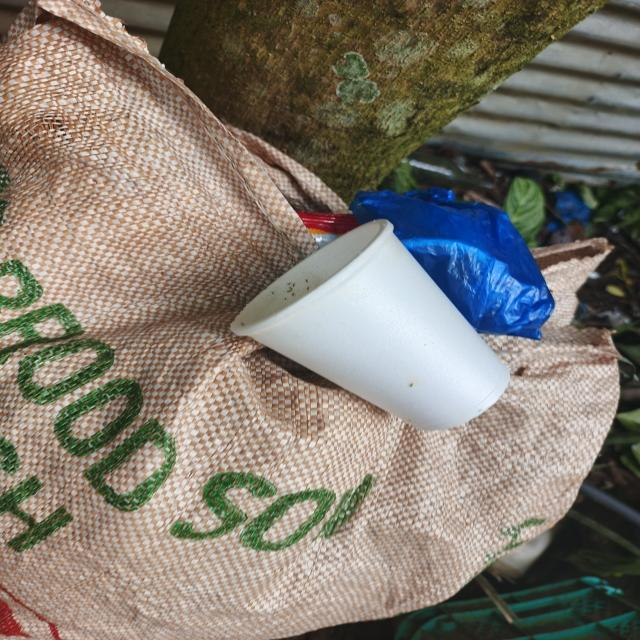plastic: (213, 208, 527, 444)
residual: (355, 173, 578, 349)
